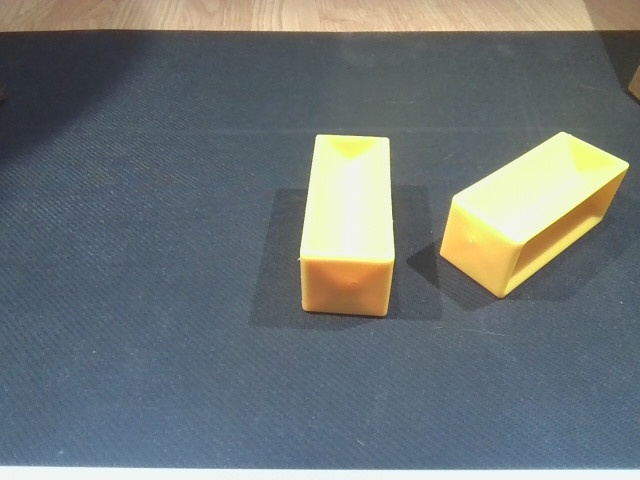YellowSample: (438, 126, 631, 302), (296, 128, 397, 317)
